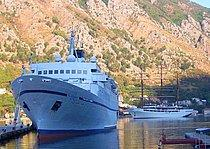Ship: (9, 17, 125, 147)
